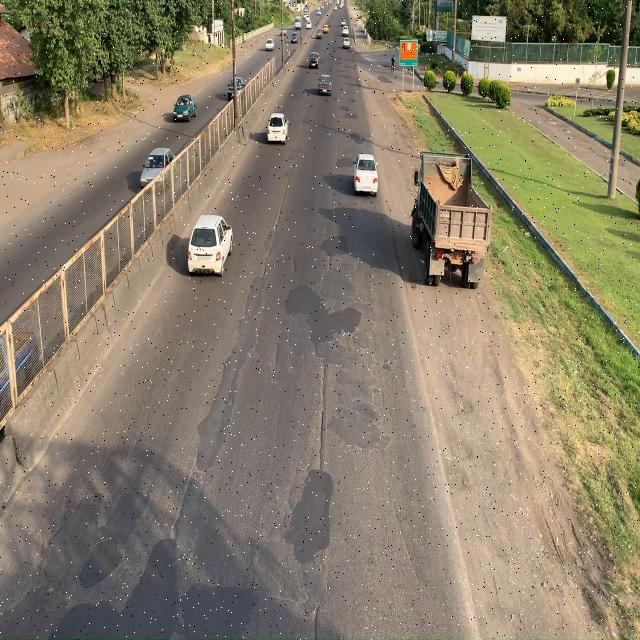Truck: (411, 150, 494, 294)
cars: (188, 217, 234, 274), (142, 145, 176, 195), (355, 149, 378, 192), (172, 90, 197, 123), (266, 113, 288, 143)
